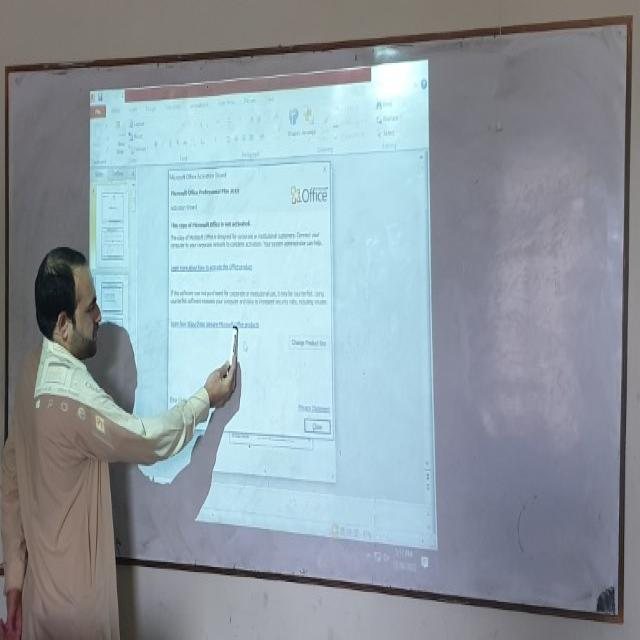Instructor: (17, 222, 115, 640)
Slide: (88, 62, 438, 577)
White-board: (7, 19, 627, 624)
